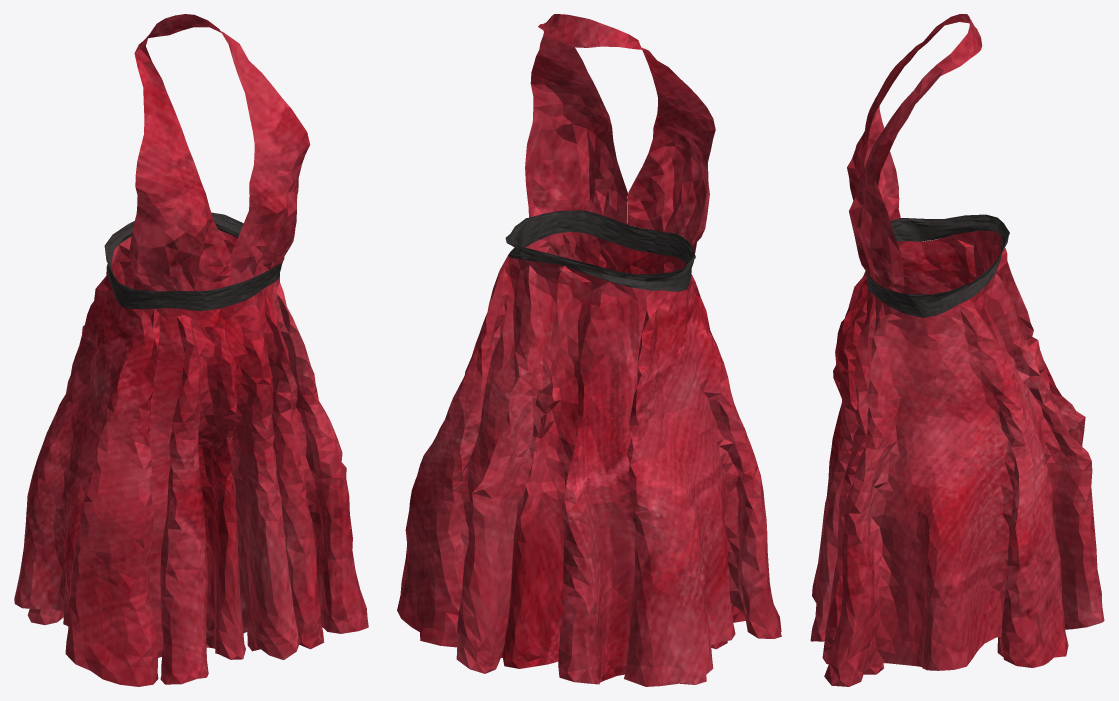
File: mhw_elvs_halter_dress_knee_length.glb
3 views of the same model, side by side, from view 1: azimuth 30°, elevation 25°; view 2: azimuth 150°, elevation 25°; view 3: azimuth 270°, elevation 25° (orthographic). The views are drawn at different scales.
Parts seen in each view (by area): view 1: mhw_elvs_halter_dress_knee_length; view 2: mhw_elvs_halter_dress_knee_length; view 3: mhw_elvs_halter_dress_knee_length.
Part boxes in pixels (box(x1,y1,x2,y2)): mhw_elvs_halter_dress_knee_length: box(14, 14, 368, 686); mhw_elvs_halter_dress_knee_length: box(397, 14, 781, 686); mhw_elvs_halter_dress_knee_length: box(810, 14, 1104, 686).
Bounding box in the file's own units: 0.5918 × 1.18 × 0.5073.
Materials: 1 (1 with a texture image).
